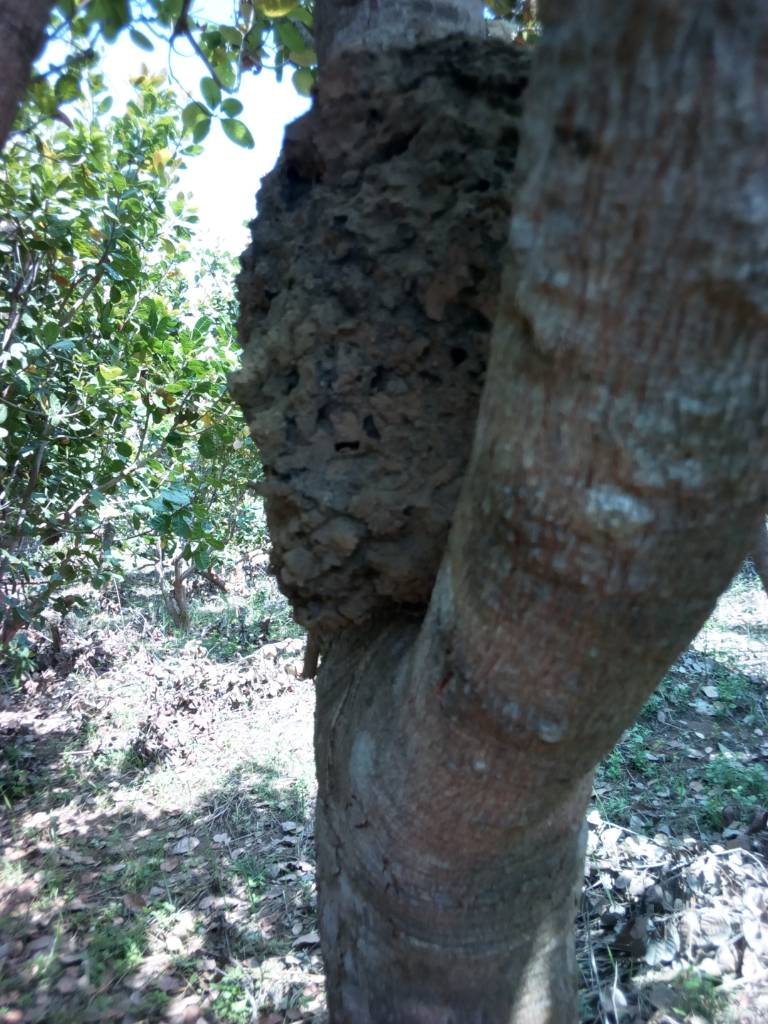Termites: (246, 58, 449, 624)
